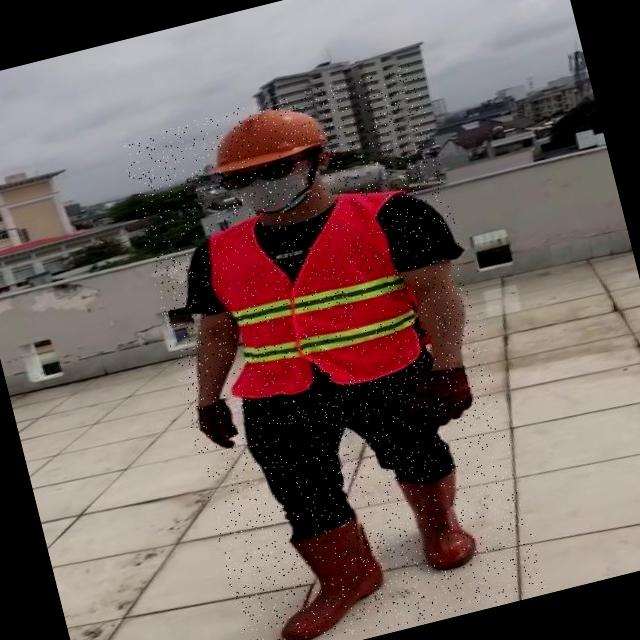boots: (255, 511, 396, 640), (402, 464, 481, 575)
helmet: (192, 92, 338, 180)
vest: (196, 188, 428, 408)
